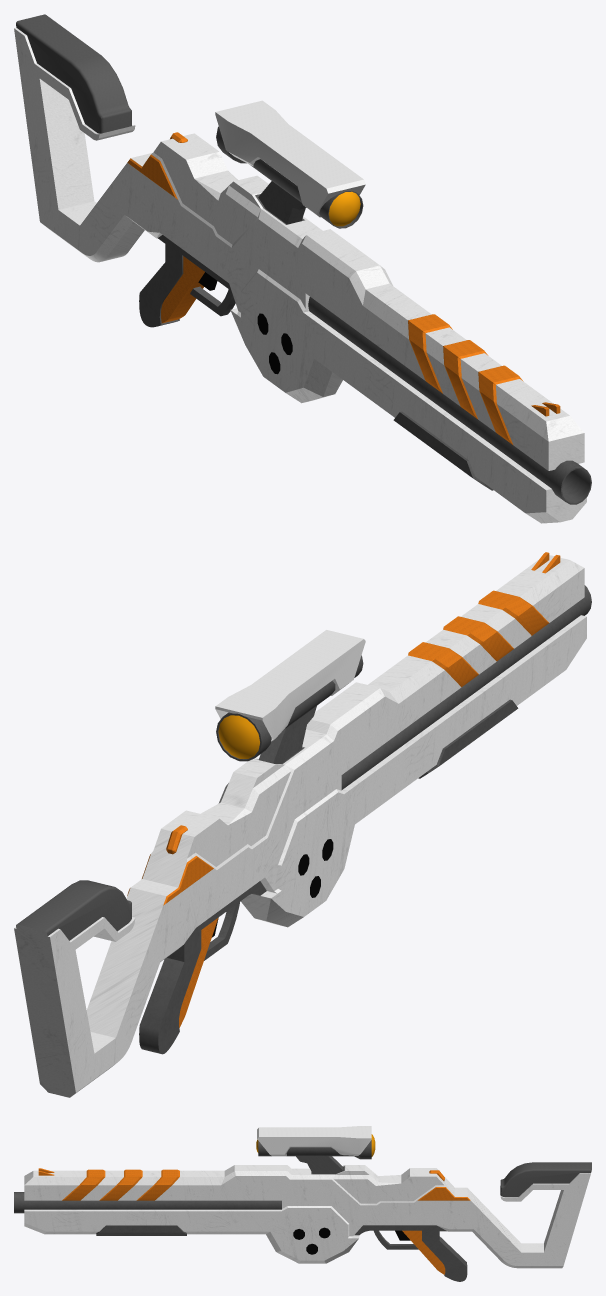
The model's file is Firelance.fbx.
The picture shows the model from 3 angles, top to bottom: view 1: azimuth 30°, elevation 25°; view 2: azimuth 150°, elevation 25°; view 3: azimuth 270°, elevation 25°; orthographic projection. The views are drawn at different scales.
Parts seen in each view (by area): view 1: Group2, Group4, Group5, Group6, Group3; view 2: Group2, Group4, Group5, Group6; view 3: Group2, Group4, Group5, Group3.
Part boxes in pixels (left/top/right/bottom): Group2: left=14, top=27, right=586, bottom=523; Group4: left=16, top=14, right=591, bottom=504; Group5: left=127, top=132, right=560, bottom=445; Group6: left=329, top=191, right=360, bottom=226; Group3: left=198, top=272, right=292, bottom=374; Group2: left=14, top=555, right=586, bottom=1097; Group4: left=17, top=585, right=591, bottom=1054; Group5: left=127, top=552, right=560, bottom=1027; Group6: left=218, top=715, right=259, bottom=758; Group2: left=24, top=1126, right=590, bottom=1268; Group4: left=14, top=1140, right=591, bottom=1281; Group5: left=38, top=1168, right=470, bottom=1274; Group3: left=293, top=1227, right=410, bottom=1254.
Size of the model in its own units: 57.9 by 326 by 1159.
